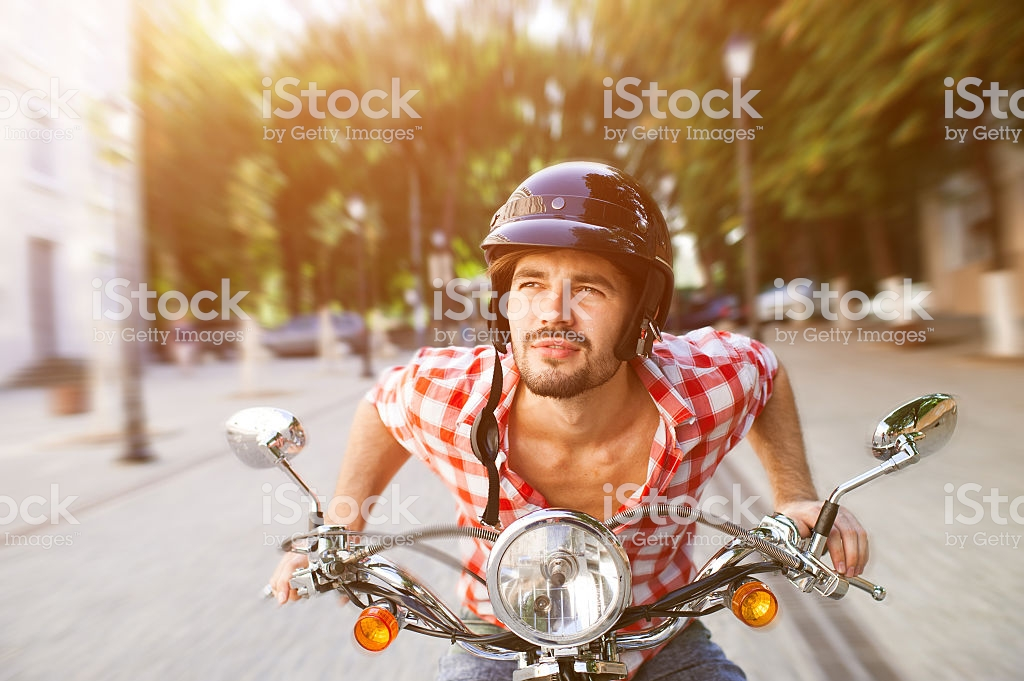helmet: (470, 155, 692, 350)
